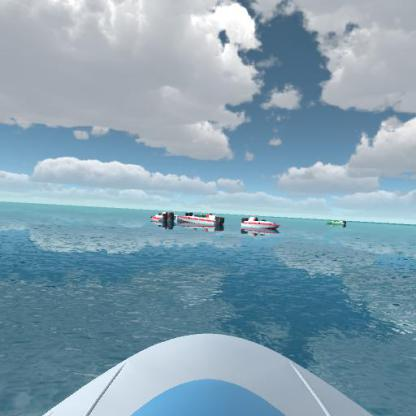usv0: (324, 217, 350, 230)
usv3: (178, 208, 228, 232), (238, 214, 280, 239), (151, 207, 177, 229)
